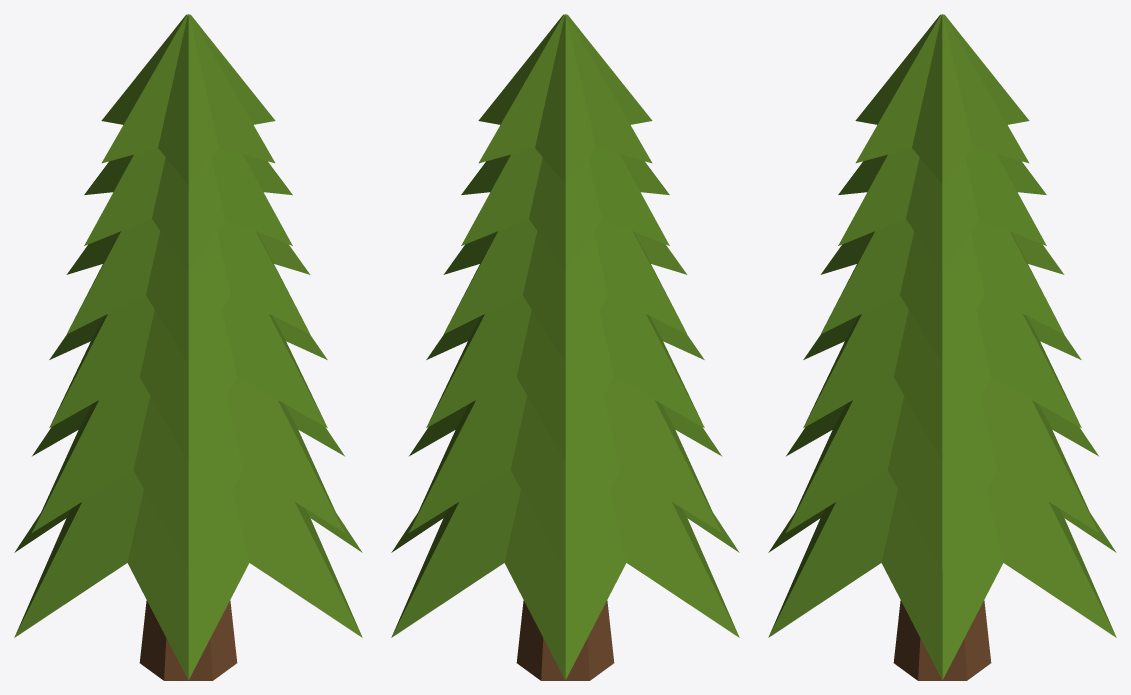
File: SPW_Natures_Tree_Fir_01.glb
3 views of the same model, side by side, from view 1: azimuth 30°, elevation 25°; view 2: azimuth 150°, elevation 25°; view 3: azimuth 270°, elevation 25° (orthographic).
Visible parts, largest first — view 1: SPW_Natures_Tree_Fir_01; view 2: SPW_Natures_Tree_Fir_01; view 3: SPW_Natures_Tree_Fir_01.
Boxes of the visible parts, x1=… form: SPW_Natures_Tree_Fir_01: x1=14, y1=14, x2=362, y2=680; SPW_Natures_Tree_Fir_01: x1=391, y1=14, x2=739, y2=680; SPW_Natures_Tree_Fir_01: x1=768, y1=14, x2=1116, y2=680.
Bounding box in the file's own units: 1.98 × 3.52 × 1.71.
1 material, 1 textured.
